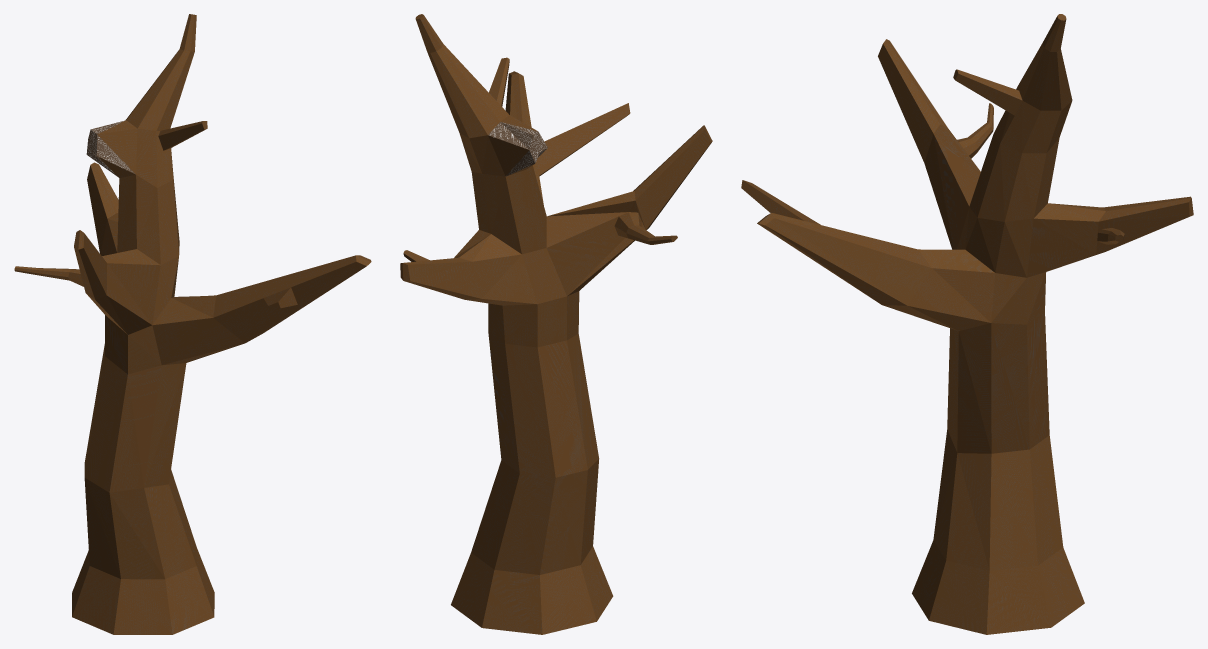
File: Tree_Dead_05.fbx
The picture shows the model from 3 angles, left to right: view 1: azimuth 30°, elevation 25°; view 2: azimuth 150°, elevation 25°; view 3: azimuth 270°, elevation 25°; orthographic projection. The views are drawn at different scales.
Visible parts, largest first — view 1: Model; view 2: Model; view 3: Model.
Part boxes in pixels (x1,y1,x2,y2): Model: (14,14,371,634); Model: (400,14,712,634); Model: (741,14,1193,634).
Size of the model in its own units: 381 by 781 by 511.
